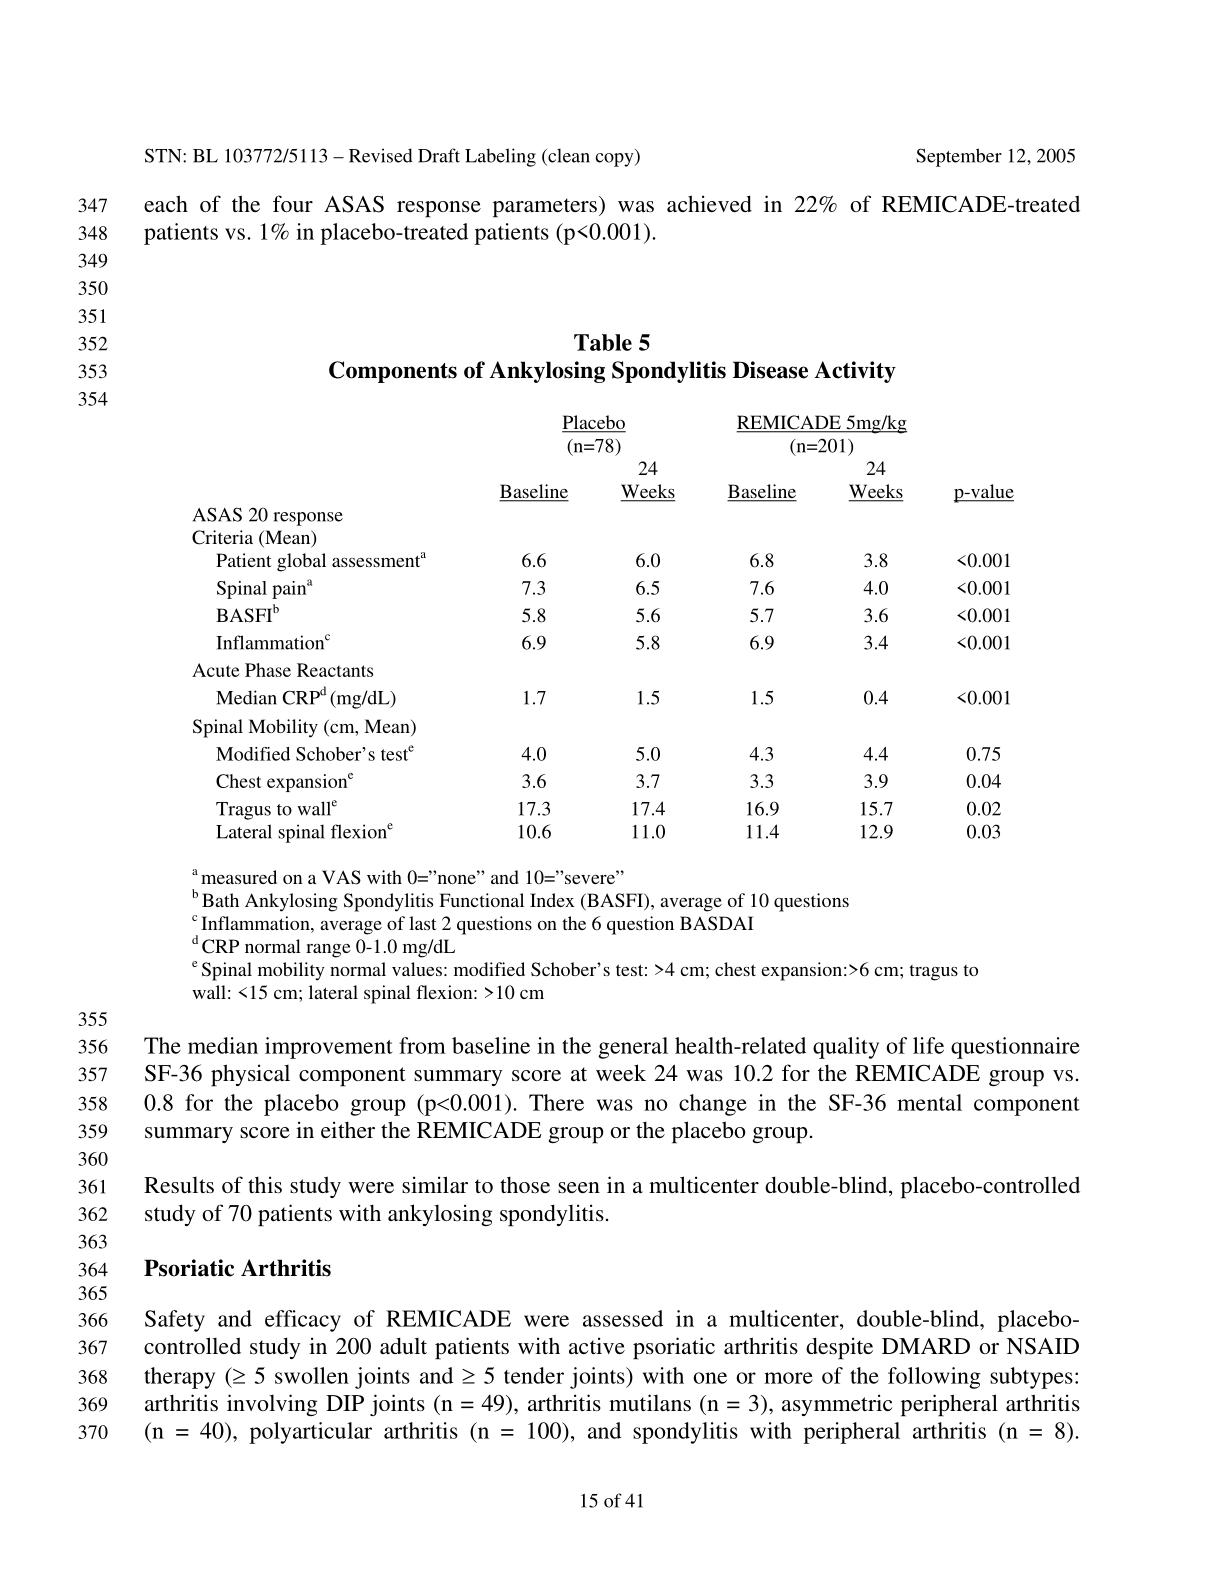nolines: (186, 411, 1020, 841)
